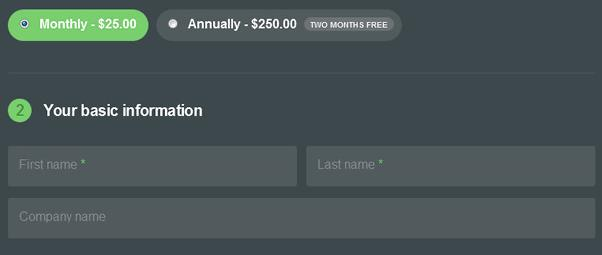field: (6, 197, 597, 240), (7, 144, 299, 189), (306, 144, 598, 189)
radio: (18, 18, 31, 30), (168, 16, 179, 30)
radio_with_label: (165, 13, 297, 31), (15, 16, 137, 32)
